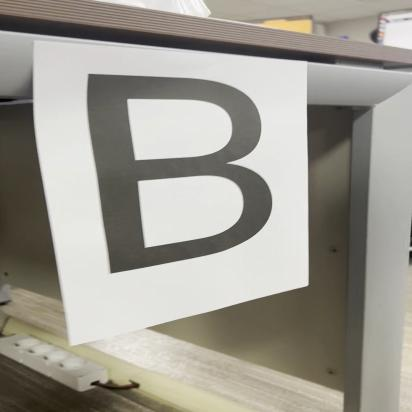seat: (52, 56, 292, 284)
